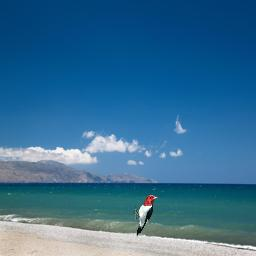Woodpecker: (132, 195, 159, 238)
